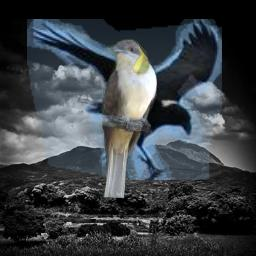Crow: (27, 19, 222, 180)
Cuckoo: (99, 39, 157, 198)
